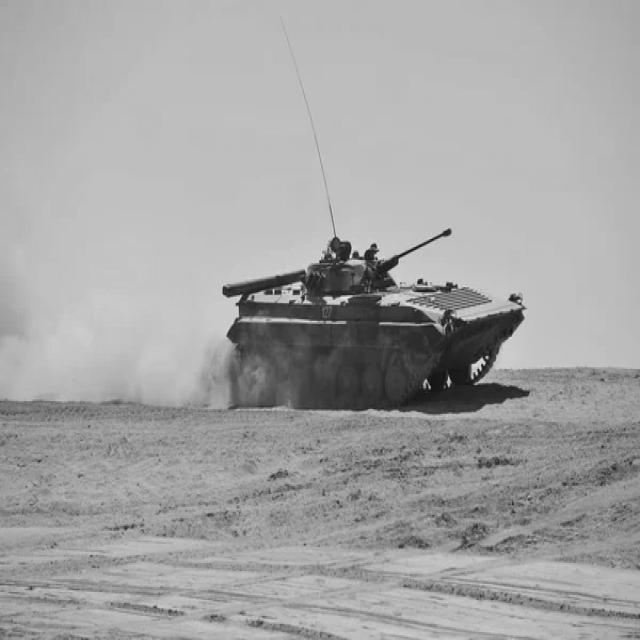Tank: (225, 214, 532, 425)
